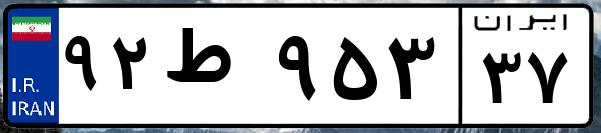2: (110, 28, 158, 98)
3: (385, 28, 445, 110), (475, 38, 525, 113)
5: (330, 28, 385, 110)
7: (525, 38, 570, 115)
9: (270, 28, 330, 110), (57, 26, 110, 100)
ط: (158, 20, 270, 120)
